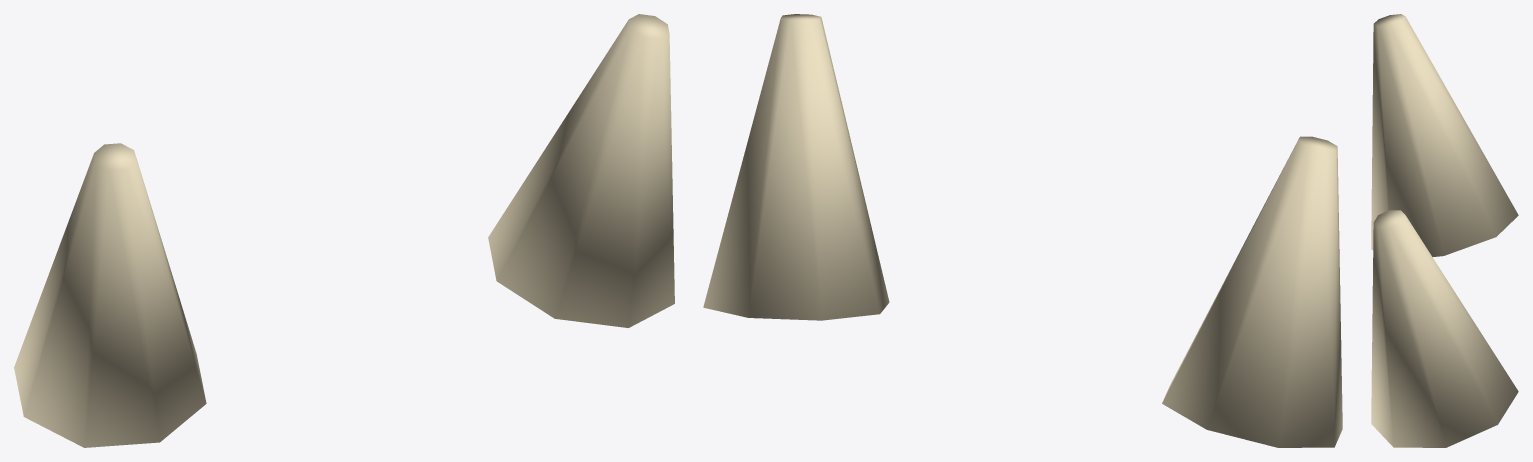
Rendered from race_tusks_ogre.glb.
The picture shows the model from 3 angles, left to right: view 1: azimuth 30°, elevation 25°; view 2: azimuth 150°, elevation 25°; view 3: azimuth 270°, elevation 25°; orthographic projection. The views are drawn at different scales.
Visible parts, largest first — view 1: race_tusks_ogre; view 2: race_tusks_ogre; view 3: race_tusks_ogre.
Boxes of the visible parts, <box> form: race_tusks_ogre: <box>14,14,674,447</box>; race_tusks_ogre: <box>703,14,1342,447</box>; race_tusks_ogre: <box>1371,14,1518,447</box>.
Size of the model in its own units: 0.4092 by 0.1771 by 0.1068.
